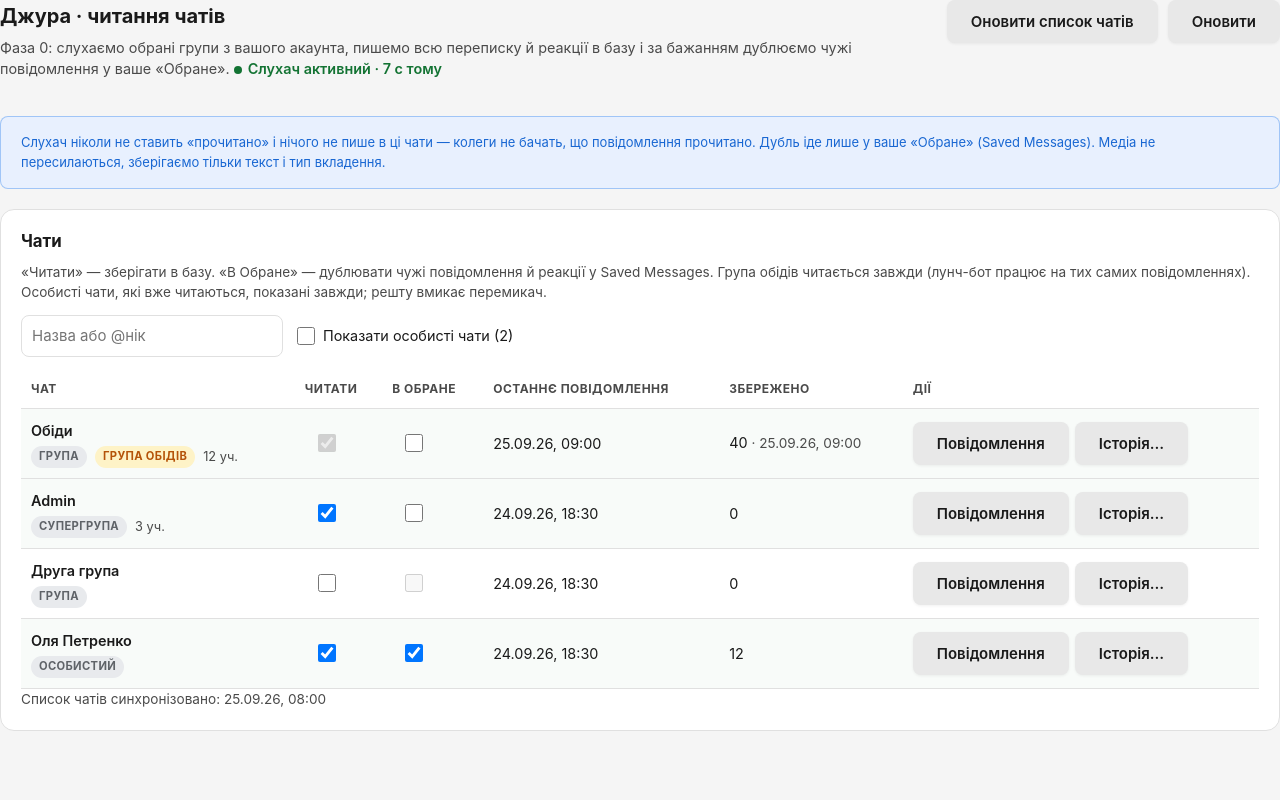
Scenario: DzhuraTab › відкат прапорця і червоний алерт, коли PATCH падає
The width and height of the screenshot is (1280, 800).
expect the text "Admin" is shown: met, box 31,492 -> 76,509
Click the checkbox named "В Обране: Admin": (414, 513) 405,504 -> 423,522
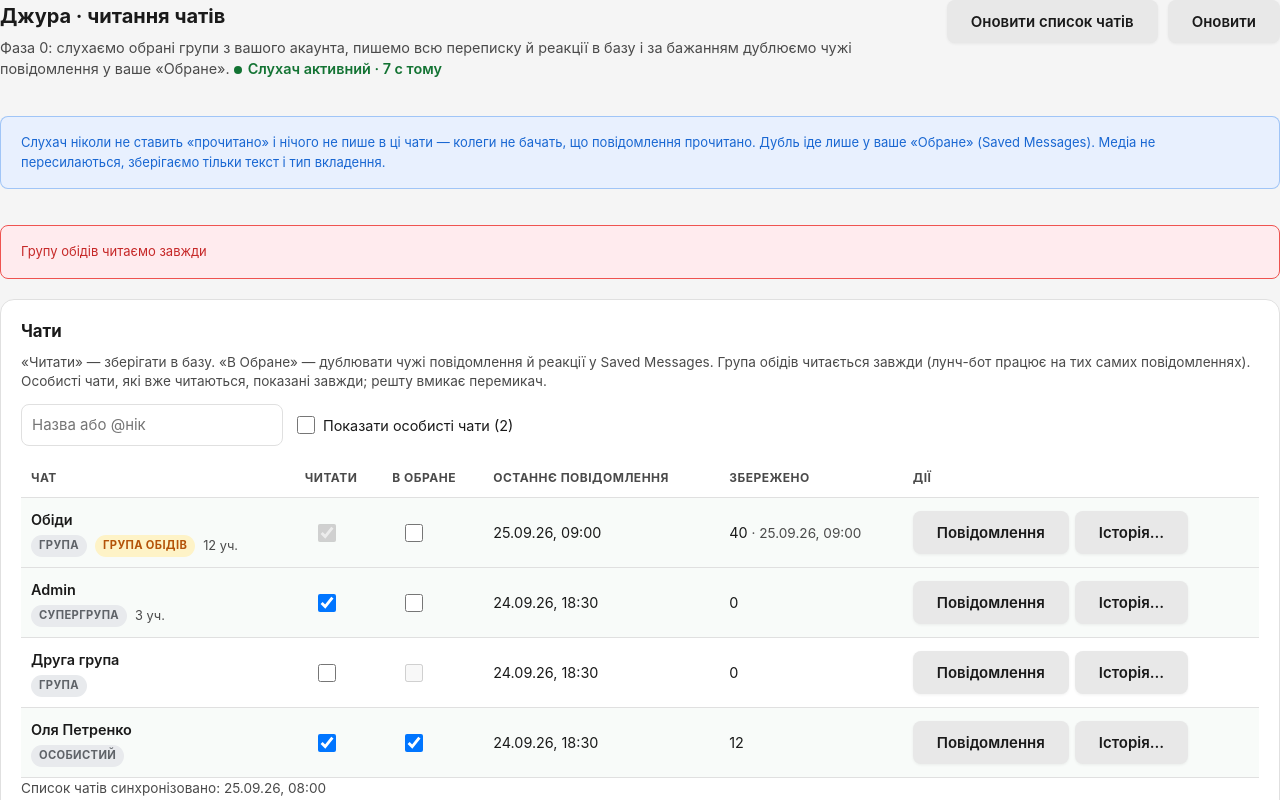
expect the checkbox named "В Обране: Admin" is not checked: met, box 405,594 -> 423,612
expect the text "Групу обідів читаємо завжди" is shown: met, box 0,225 -> 1279,279
